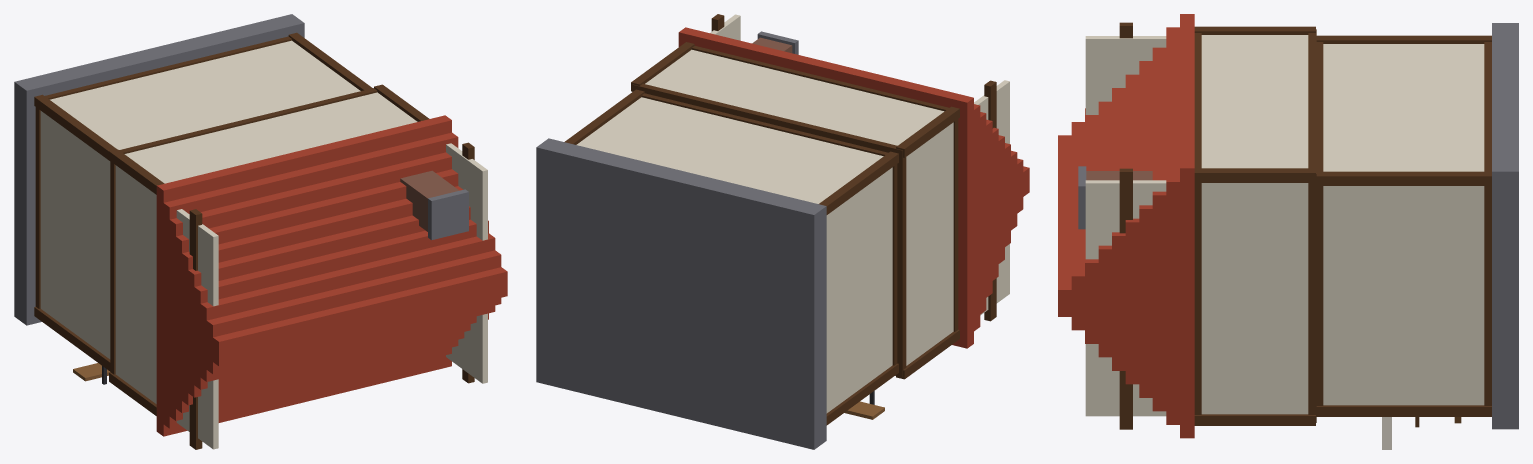
File: shop_building.obj
3 views of the same model, side by side, from view 1: azimuth 30°, elevation 25°; view 2: azimuth 150°, elevation 25°; view 3: azimuth 270°, elevation 25° (orthographic). The views are drawn at different scales.
Parts seen in each view (by area): view 1: shop_building; view 2: shop_building; view 3: shop_building.
Part boxes in pixels (<box>): shop_building: <box>14,14,507,449</box>; shop_building: <box>536,14,1029,449</box>; shop_building: <box>1058,14,1518,449</box>.
Size of the model in its own units: 5.4 by 4.95 by 6.81.
